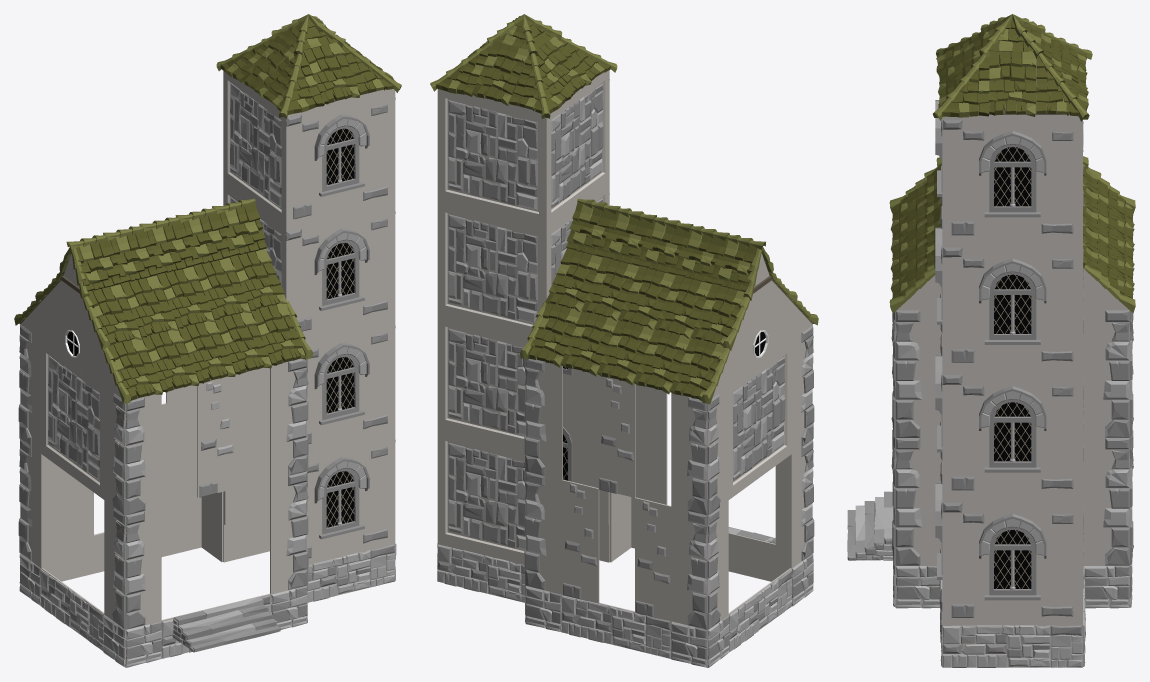
File: HOUSE_4_PARTS.fbx
3 views of the same model, side by side, from view 1: azimuth 30°, elevation 25°; view 2: azimuth 150°, elevation 25°; view 3: azimuth 270°, elevation 25° (orthographic). The views are drawn at different scales.
Parts seen in each view (by area): view 1: WINDOW_03_22, WINDOW_03_23, WINDOW_03_25, WINDOW_03_24, WALL_02_2, WALL_02_7, WALL_02_3, WALL_07_2, WALL_06_3, WALL_07_5, WALL_05_2, WALL_05_5 (+47 smaller); view 2: WALL_02_6, WALL_02_5, WALL_02_3, WALL_02_4, WALL_02_2, WALL_02_7, WALL_06_5, WALL_05_9, WALL_06_4, WALL_05_8, WALL_06_6, FOUNDATION_03_6 (+44 smaller); view 3: WINDOW_03_18, WINDOW_03_19, WINDOW_03_20, WINDOW_03_21, FOUNDATION_03_4, WALL_07_8, WALL_07_7, WALL_05_7, WALL_05_6, ROOF_BASE_23, STAIRS_03_2, ROOF_CORNER_OUT_5 (+32 smaller).
Part boxes in pixels (x1,y1,x2,y2): WINDOW_03_22: [286, 89, 395, 226]; WINDOW_03_23: [286, 201, 395, 336]; WINDOW_03_25: [307, 429, 395, 564]; WINDOW_03_24: [305, 315, 395, 449]; WALL_02_2: [41, 340, 104, 499]; WALL_02_7: [223, 71, 289, 227]; WALL_02_3: [223, 400, 269, 525]; WALL_07_2: [270, 471, 307, 593]; WALL_06_3: [197, 376, 234, 497]; WALL_07_5: [270, 358, 307, 479]; WALL_05_2: [125, 506, 161, 629]; WALL_05_5: [125, 394, 161, 515]; WALL_02_6: [437, 89, 547, 226]; WALL_02_5: [437, 201, 546, 336]; WALL_02_3: [437, 429, 525, 564]; WALL_02_4: [437, 315, 528, 450]; WALL_02_2: [728, 340, 791, 499]; WALL_02_7: [543, 70, 609, 227]; WALL_06_5: [562, 479, 599, 603]; WALL_05_9: [525, 471, 562, 594]; WALL_06_4: [598, 375, 635, 497]; WALL_05_8: [525, 358, 562, 479]; WALL_06_6: [635, 497, 671, 620]; FOUNDATION_03_6: [562, 594, 671, 658]; WINDOW_03_18: [942, 497, 1082, 624]; WINDOW_03_19: [942, 369, 1082, 497]; WINDOW_03_20: [942, 242, 1082, 369]; WINDOW_03_21: [942, 114, 1082, 241]; FOUNDATION_03_4: [942, 625, 1082, 667]; WALL_07_8: [1083, 438, 1129, 565]; WALL_07_7: [1083, 310, 1129, 437]; WALL_05_7: [895, 310, 941, 437]; WALL_05_6: [895, 438, 941, 565]; ROOF_BASE_23: [988, 49, 1036, 116]; STAIRS_03_2: [847, 491, 893, 560]; ROOF_CORNER_OUT_5: [933, 51, 989, 120].
Size of the model in its own units: 835 by 1466 by 615.
